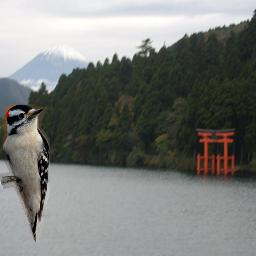Woodpecker: (0, 104, 50, 243)
